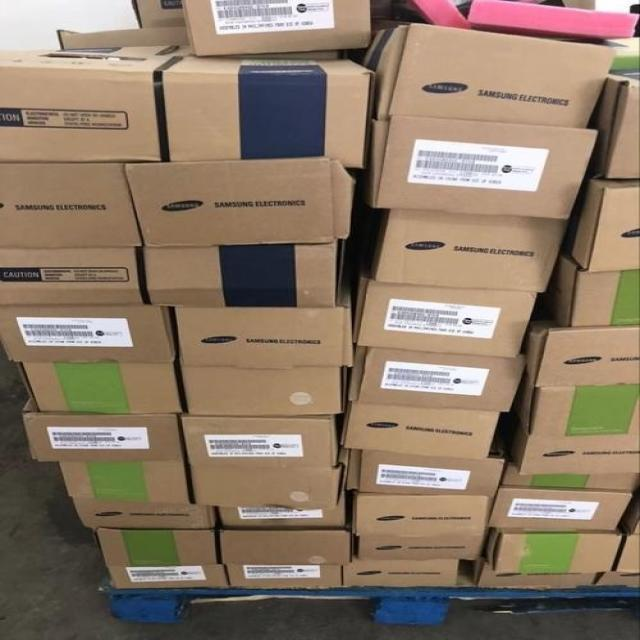box: (0, 49, 374, 167), (339, 23, 618, 128), (371, 115, 599, 220), (1, 239, 346, 308), (122, 156, 355, 246), (59, 447, 349, 507), (371, 209, 568, 295), (351, 279, 536, 357), (347, 347, 527, 414), (175, 307, 351, 367), (23, 399, 184, 461), (0, 307, 177, 363), (15, 360, 184, 413), (180, 365, 348, 417), (339, 404, 499, 457), (180, 414, 339, 467), (525, 315, 640, 386), (346, 451, 507, 497), (513, 375, 640, 433), (351, 490, 495, 538), (468, 0, 639, 39), (488, 484, 632, 530), (568, 180, 640, 271), (549, 257, 640, 328), (484, 529, 622, 575), (509, 428, 640, 475), (586, 66, 640, 180), (214, 489, 348, 529), (92, 529, 220, 567), (218, 528, 351, 564), (70, 498, 216, 529), (500, 466, 640, 493), (58, 24, 189, 49), (342, 559, 458, 587), (109, 564, 230, 590), (223, 564, 343, 590), (358, 536, 486, 560), (475, 564, 599, 587), (407, 0, 475, 31), (64, 45, 193, 58), (132, 0, 186, 27), (614, 534, 640, 576), (621, 493, 640, 533), (594, 576, 640, 589)
